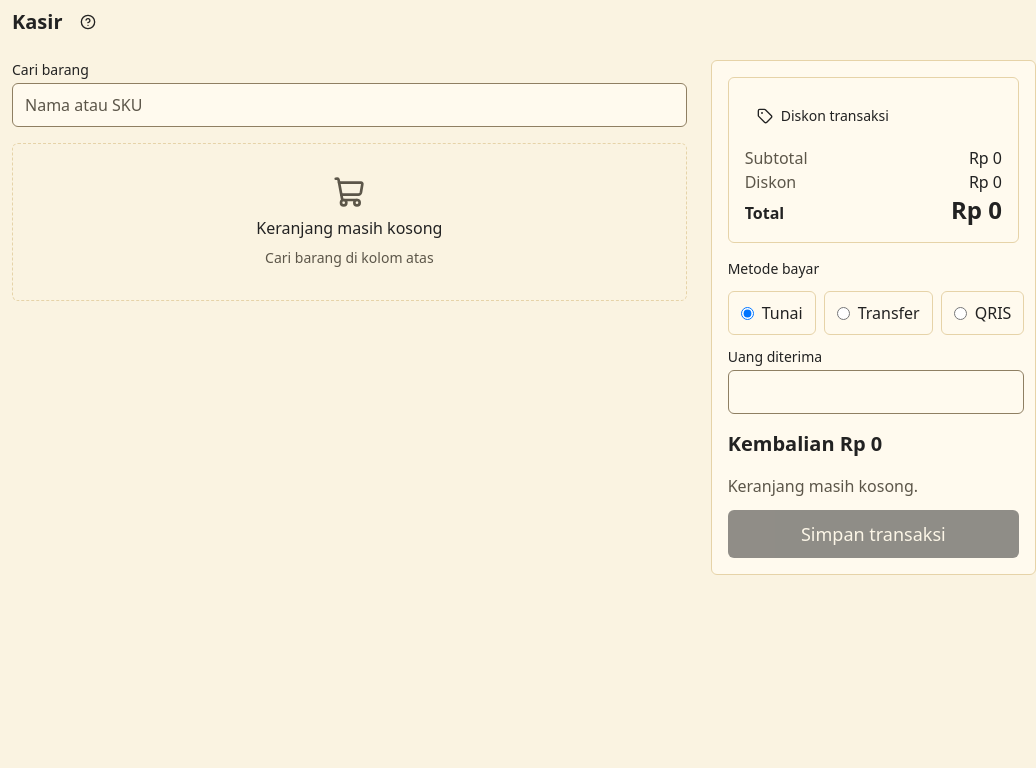
Test case: CashierPage › harga berubah setelah barang masuk keranjang: pemberitahuan tampil, hilang saat jumlah diubah
Type "beras" into the search field labelled "Cari barang".
click(349, 105); type("beras")  # box [12, 83, 687, 127]
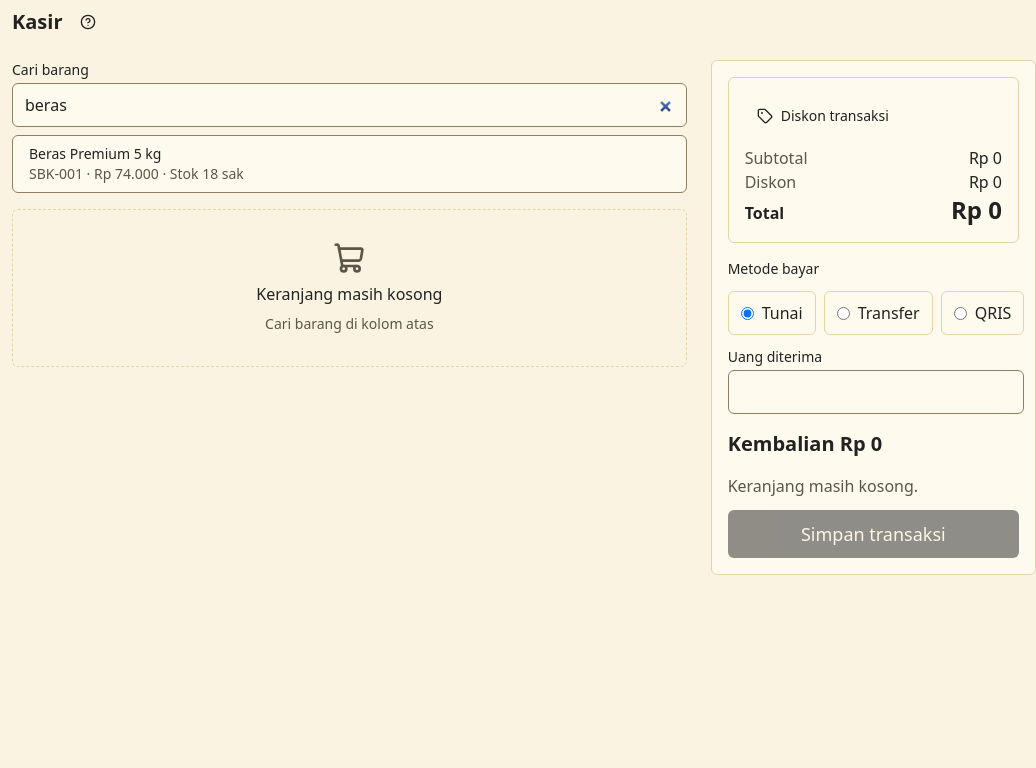
Click the button "Beras Premium 5 kg SBK-001 · Rp 74.000 · Stok 18 sak".
click(95, 154)  # box [12, 135, 687, 193]
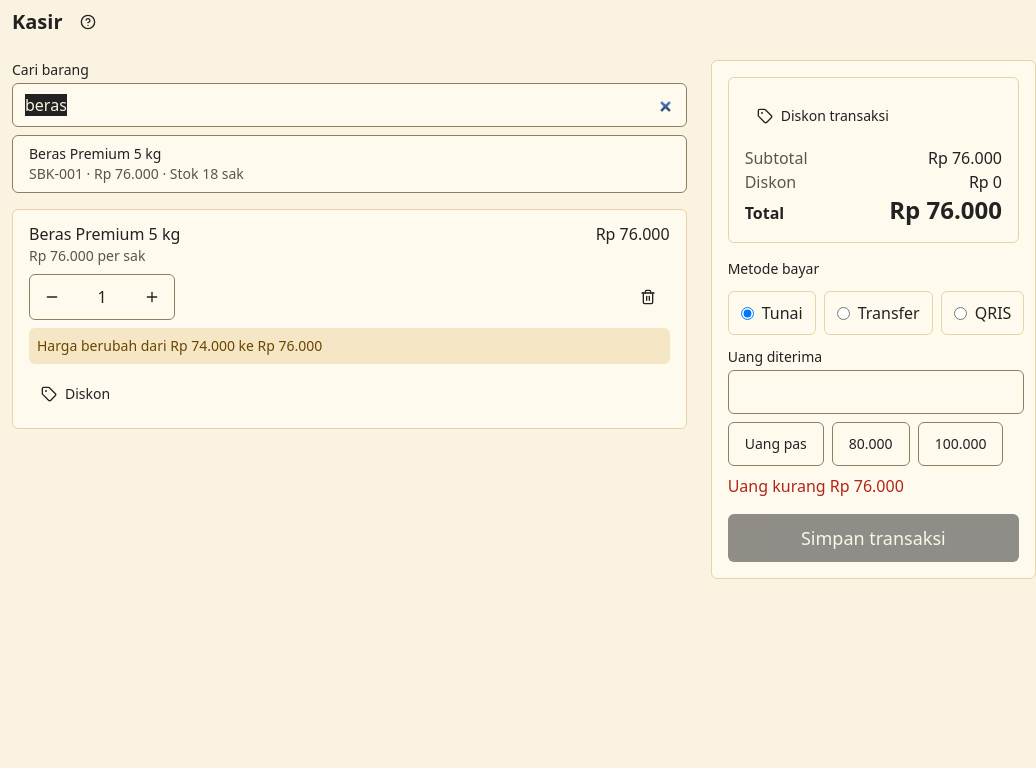
Now the text "Harga berubah dari Rp 74.000 ke Rp 76.000" is shown, box [29, 328, 670, 364]
Click the button named "Tambah Beras Premium 5 kg".
click(152, 297)  # box [130, 275, 174, 319]
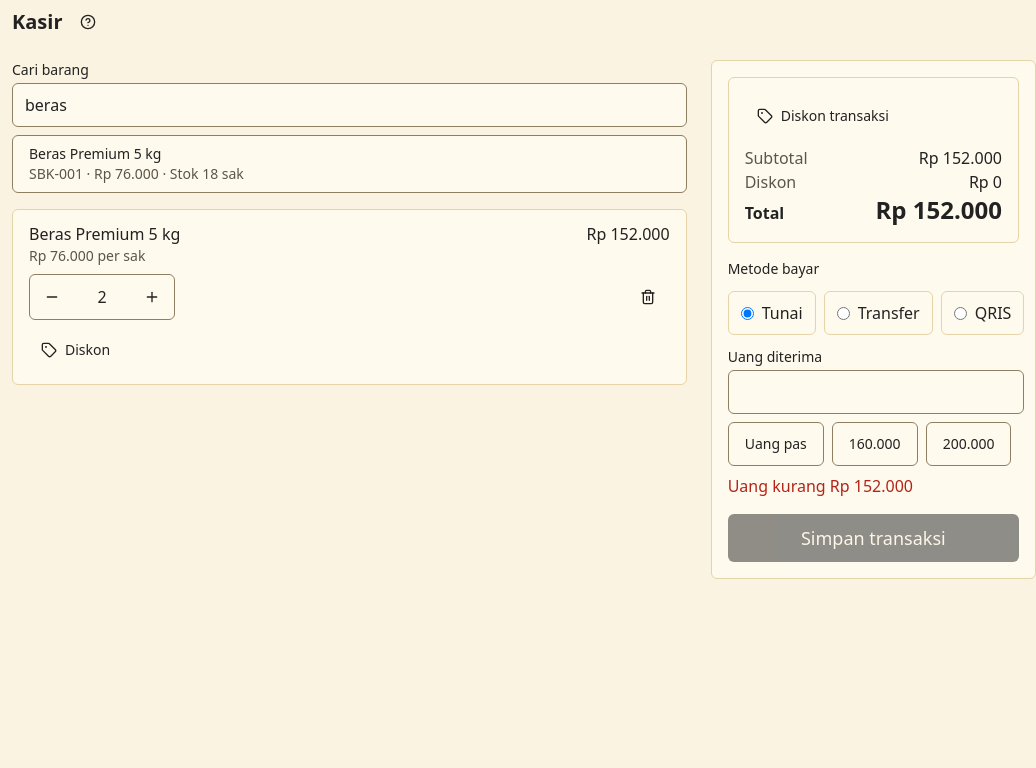
Now the text "Harga berubah dari" is gone
